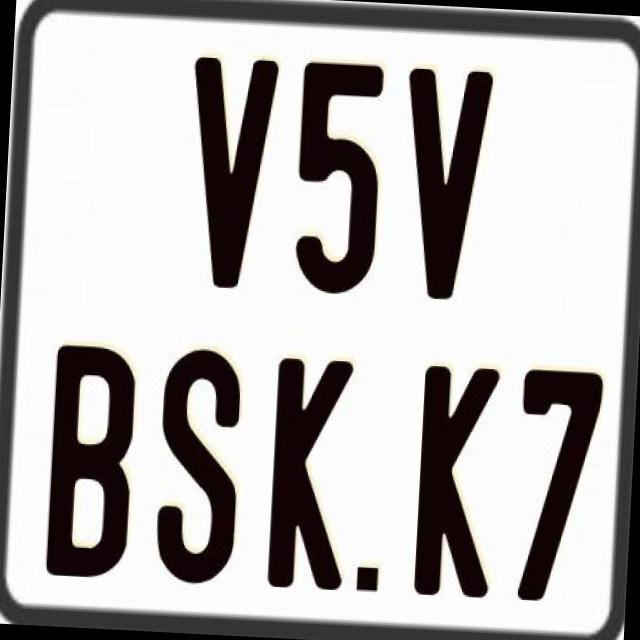5: (291, 60, 383, 298)
7: (509, 364, 604, 602)
B: (43, 344, 134, 582)
K: (414, 366, 506, 606), (264, 353, 352, 592)
S: (150, 343, 242, 584)
V: (184, 52, 282, 293), (396, 66, 492, 304)
